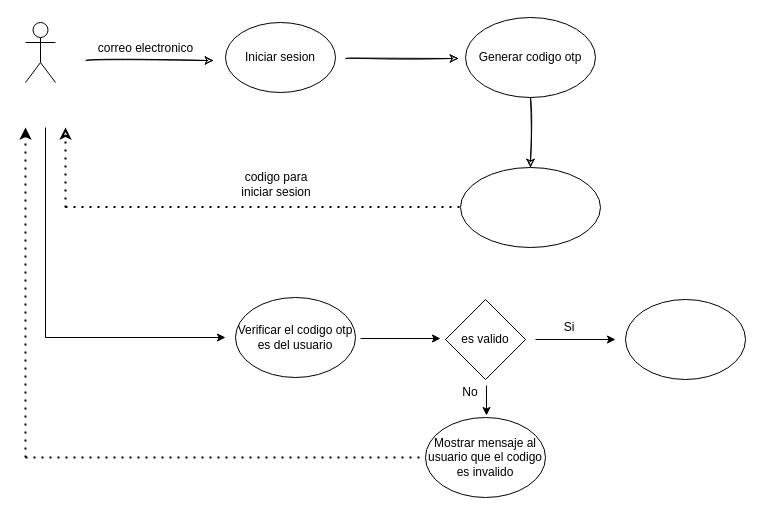
Image size: 763x515. Some labels were removed from this diagram. The centre of each missing label's shape, as x and y in pixels:
Acceder a la aplicación: (685,339)
cliente: (40,52)
Enviar email con el codigo otp: (530,207)
